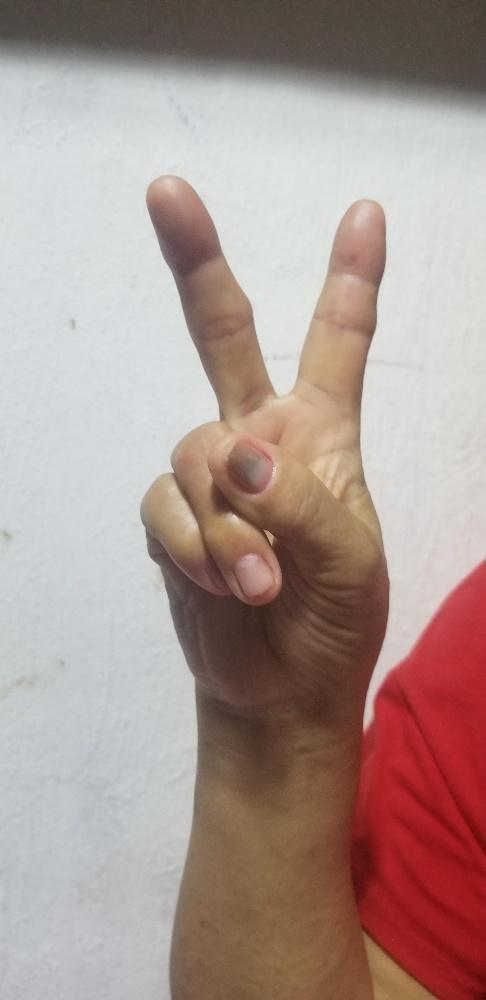v: (136, 172, 391, 654)
